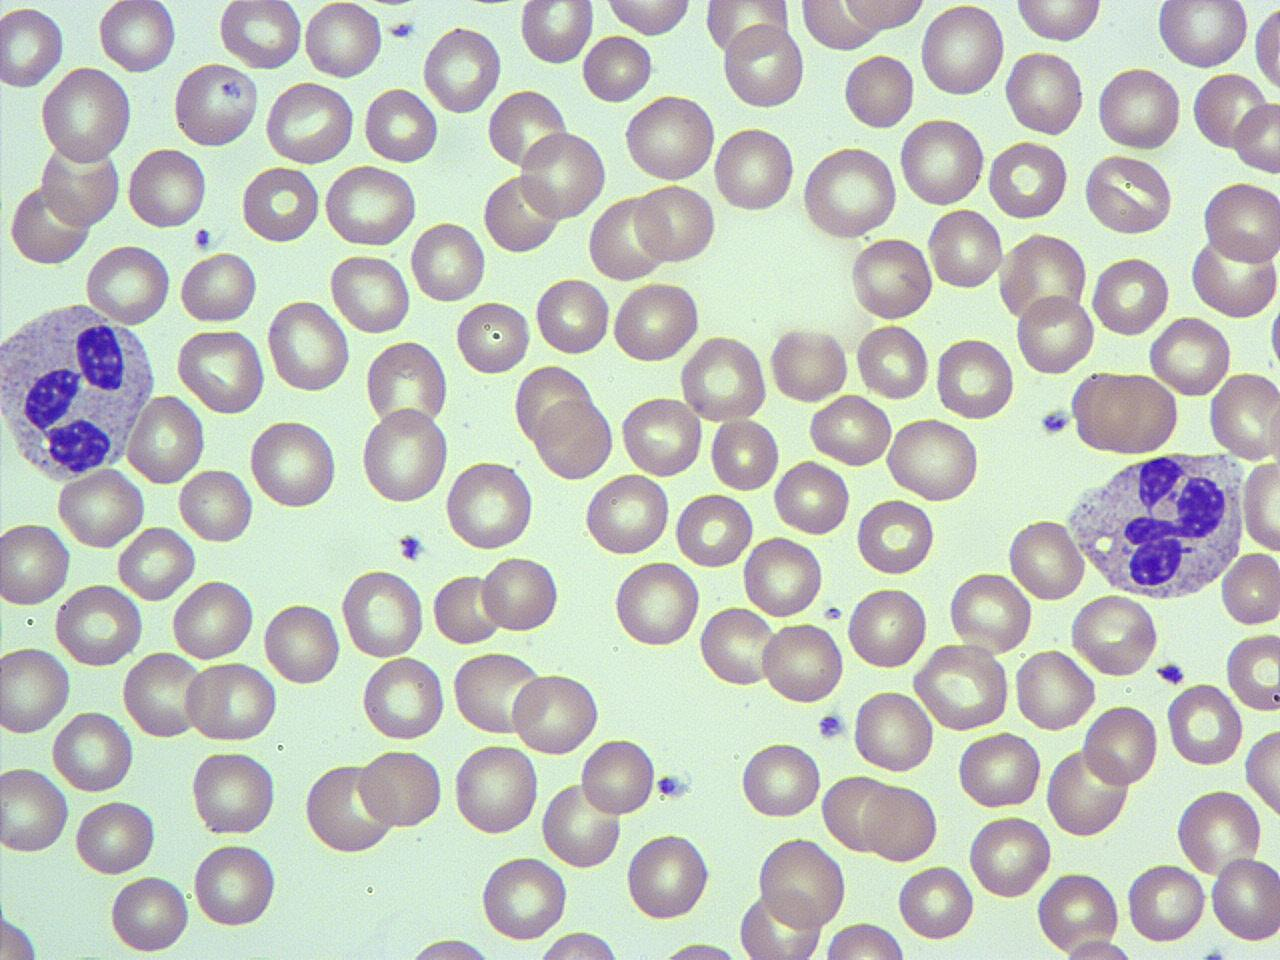Platelets: (654, 768, 694, 804), (1040, 406, 1076, 437), (816, 709, 850, 741), (396, 530, 426, 564), (1154, 658, 1188, 688), (383, 17, 419, 41), (1199, 942, 1229, 960), (193, 226, 212, 252), (824, 604, 846, 623)
RBC: (799, 144, 900, 243), (1070, 368, 1180, 458), (38, 64, 134, 167), (754, 834, 850, 932), (358, 405, 450, 507), (622, 90, 718, 186), (996, 230, 1090, 328), (304, 756, 395, 856), (450, 740, 541, 840), (918, 1, 1008, 102), (362, 334, 450, 436), (264, 295, 352, 397), (518, 126, 608, 225), (884, 414, 982, 504), (175, 324, 269, 417), (248, 416, 340, 511), (913, 642, 1012, 730), (444, 456, 535, 551), (624, 828, 714, 924), (1043, 743, 1131, 840), (320, 163, 420, 248), (896, 116, 987, 209), (611, 558, 701, 652), (679, 333, 770, 425), (450, 648, 543, 738), (54, 462, 147, 552), (191, 838, 280, 932), (340, 564, 427, 660), (511, 668, 603, 758), (1175, 786, 1263, 880), (1081, 150, 1175, 238), (711, 121, 798, 216), (124, 389, 207, 488), (847, 233, 937, 324), (720, 20, 808, 113), (610, 280, 704, 367), (538, 778, 624, 873), (582, 470, 672, 560), (188, 748, 278, 838), (618, 390, 706, 482), (966, 810, 1054, 902), (1069, 590, 1161, 678), (183, 659, 278, 744), (946, 568, 1035, 658), (356, 744, 445, 833), (54, 580, 144, 668), (480, 854, 570, 942), (1146, 311, 1234, 401), (120, 648, 206, 740), (38, 137, 123, 230), (420, 23, 504, 117), (1034, 869, 1124, 956), (82, 241, 173, 327), (263, 80, 355, 165), (844, 582, 929, 674), (172, 61, 260, 149), (850, 686, 936, 776), (760, 618, 846, 708), (49, 708, 136, 796), (1012, 646, 1099, 734), (1095, 65, 1183, 152), (632, 179, 718, 268), (360, 654, 446, 742), (955, 727, 1044, 812), (1002, 49, 1086, 139), (260, 598, 343, 689), (1006, 514, 1088, 606), (485, 86, 572, 172), (4, 182, 90, 269), (1124, 859, 1208, 947), (108, 870, 192, 958), (1012, 292, 1098, 377), (125, 143, 208, 231), (408, 216, 488, 307), (740, 534, 824, 620), (170, 578, 256, 662), (327, 253, 413, 337), (986, 136, 1069, 223), (1090, 252, 1172, 340), (697, 602, 778, 691), (1165, 678, 1245, 768), (1200, 178, 1280, 268), (926, 204, 1006, 294), (1153, 0, 1251, 72), (766, 320, 850, 404), (72, 796, 158, 878), (479, 551, 561, 637), (588, 192, 666, 282), (1082, 701, 1160, 791), (0, 642, 73, 738), (301, 0, 384, 84), (482, 171, 562, 258), (738, 738, 822, 820), (535, 396, 615, 482), (1208, 369, 1280, 464), (115, 522, 198, 604), (934, 335, 1014, 420), (533, 273, 613, 358), (1208, 852, 1280, 946), (673, 488, 755, 570), (855, 496, 937, 578), (514, 362, 594, 446), (772, 455, 852, 539), (579, 735, 658, 820), (862, 779, 940, 865), (807, 391, 894, 468), (0, 762, 71, 856), (0, 518, 72, 610), (736, 885, 824, 960), (240, 164, 322, 244), (452, 297, 532, 378), (1191, 69, 1269, 152), (895, 863, 976, 942), (854, 321, 932, 402), (177, 466, 254, 548), (96, 0, 179, 76), (217, 0, 304, 72), (176, 249, 258, 325), (820, 772, 894, 854), (842, 50, 916, 132), (706, 414, 782, 492), (363, 86, 438, 164), (1, 4, 67, 91), (580, 31, 656, 106), (432, 571, 504, 647), (518, 0, 596, 68), (703, 0, 793, 58), (1217, 549, 1279, 628), (1224, 630, 1280, 713), (1012, 0, 1104, 46), (1238, 460, 1280, 556), (600, 0, 698, 38), (1231, 99, 1279, 175), (1242, 726, 1280, 818), (822, 920, 909, 960), (534, 928, 629, 960), (397, 934, 510, 960), (840, 0, 928, 33), (1251, 3, 1280, 98), (0, 904, 42, 959), (1054, 936, 1144, 960)
WBC: (0, 298, 160, 486), (1064, 446, 1250, 602)
